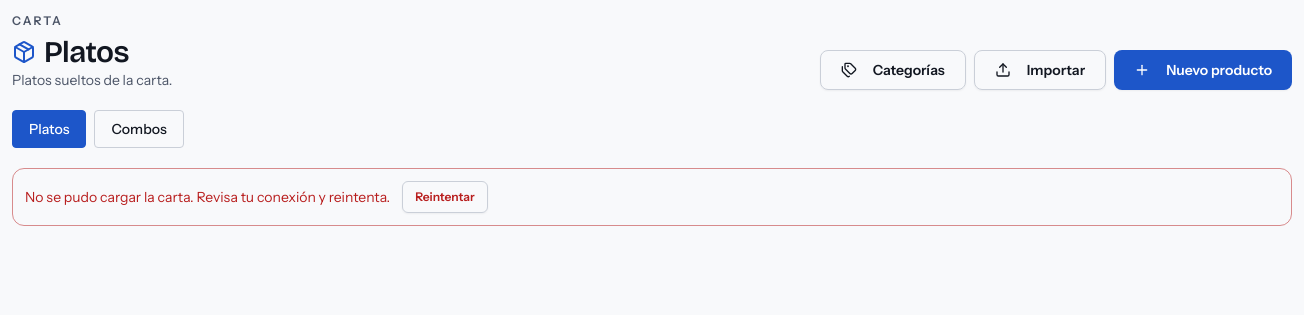
it: T11 · pantallas de administración que fingían estar vacías o cargando › Productos avisa en vez de decir «No hay platos en la carta»
The image size is (1304, 315).
Click the button "Reintentar". click: (445, 197)
box: [402,181,488,213]
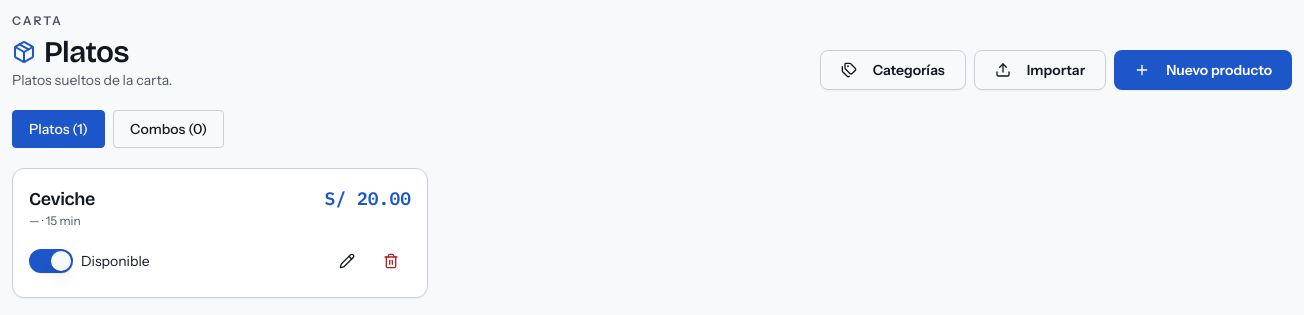
Expected: the text "Ceviche" is shown, [29,185,95,213]
